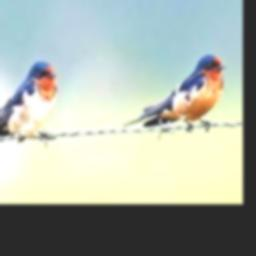Swallow: (123, 53, 229, 131), (0, 61, 59, 147)
